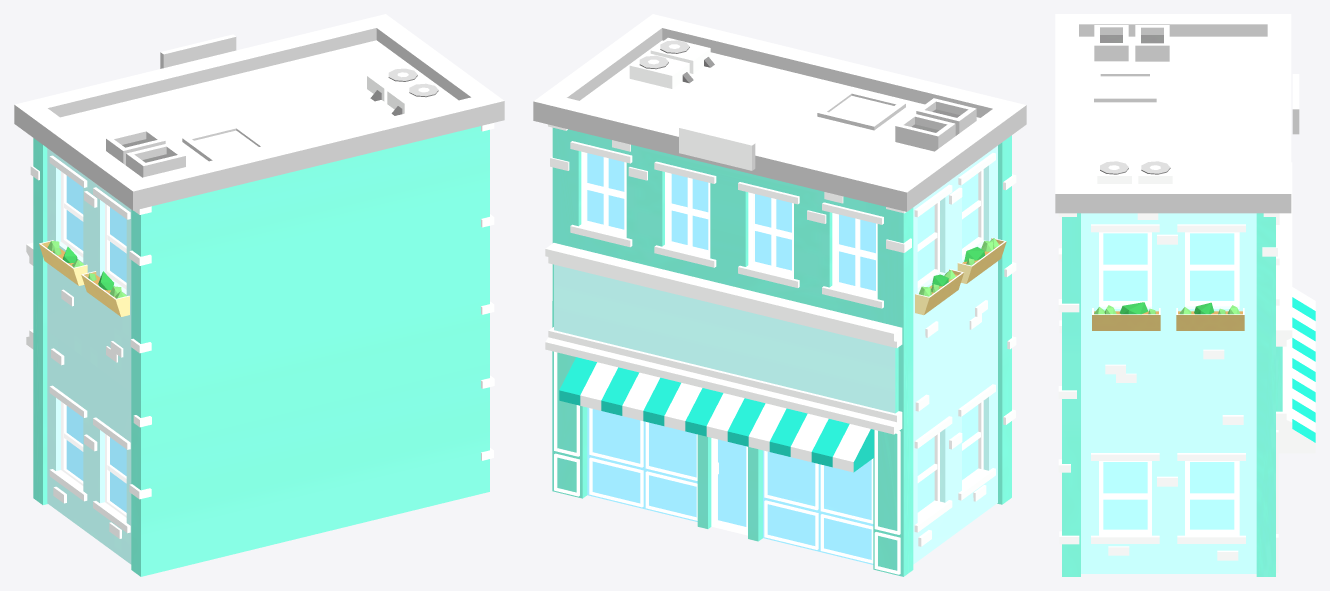
Rendered from dwelling&store.007.glb.
The picture shows the model from 3 angles, left to right: view 1: azimuth 30°, elevation 25°; view 2: azimuth 150°, elevation 25°; view 3: azimuth 270°, elevation 25°; orthographic projection.
Parts seen in each view (by area): view 1: dwelling&store.007(Clone); view 2: dwelling&store.007(Clone); view 3: dwelling&store.007(Clone).
Boxes of the visible parts, x1,y1,x2,y2 form: dwelling&store.007(Clone): [14, 14, 504, 576]; dwelling&store.007(Clone): [533, 14, 1026, 576]; dwelling&store.007(Clone): [1055, 14, 1315, 576].
Bounding box in the file's own units: 7.05 × 7.32 × 4.31.
Materials: 1 (1 with a texture image).
